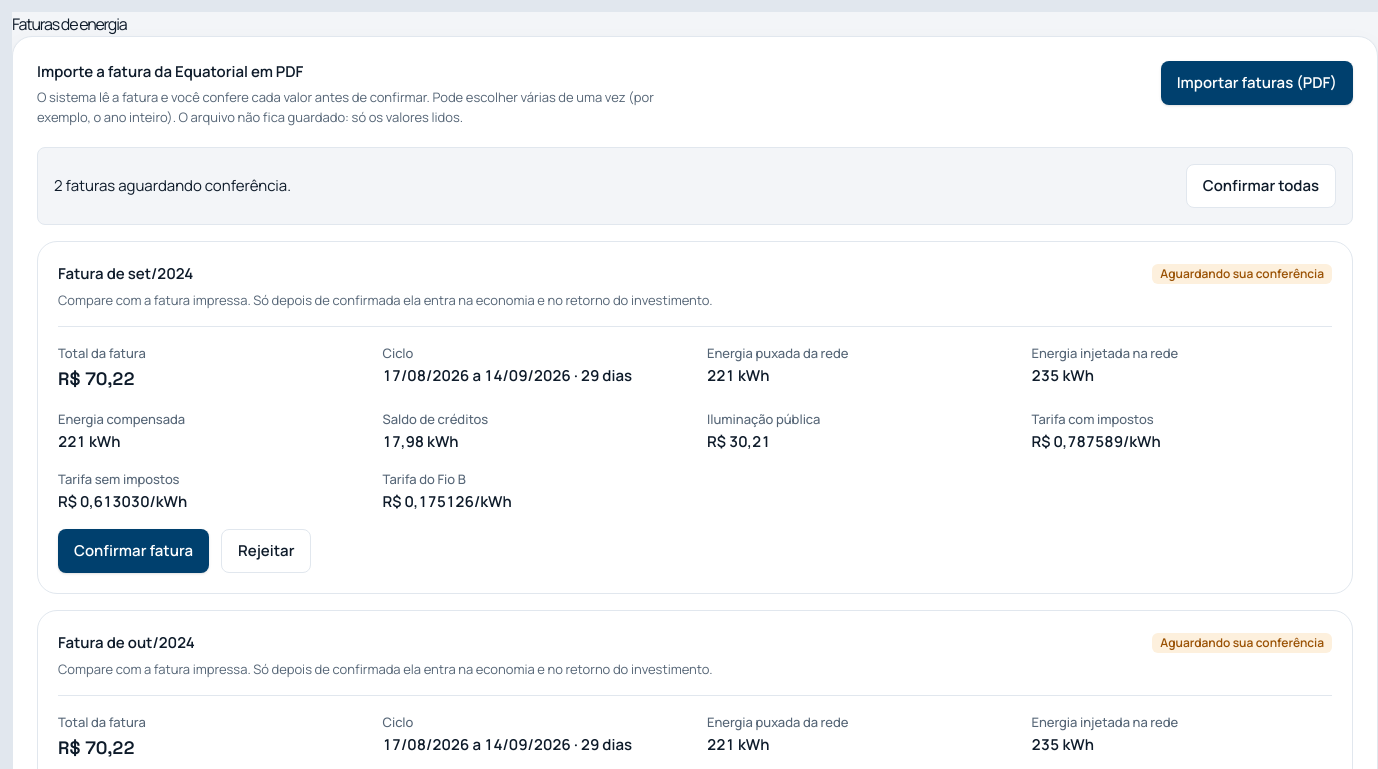
Test case: BillsSection — importar e conferir faturas › confirmar todas separa as já revisadas das que falharam
The image size is (1378, 769).
Step 1. Click the button "Confirmar todas" → (1261, 186), box x1=1186 y1=164 x2=1336 y2=208
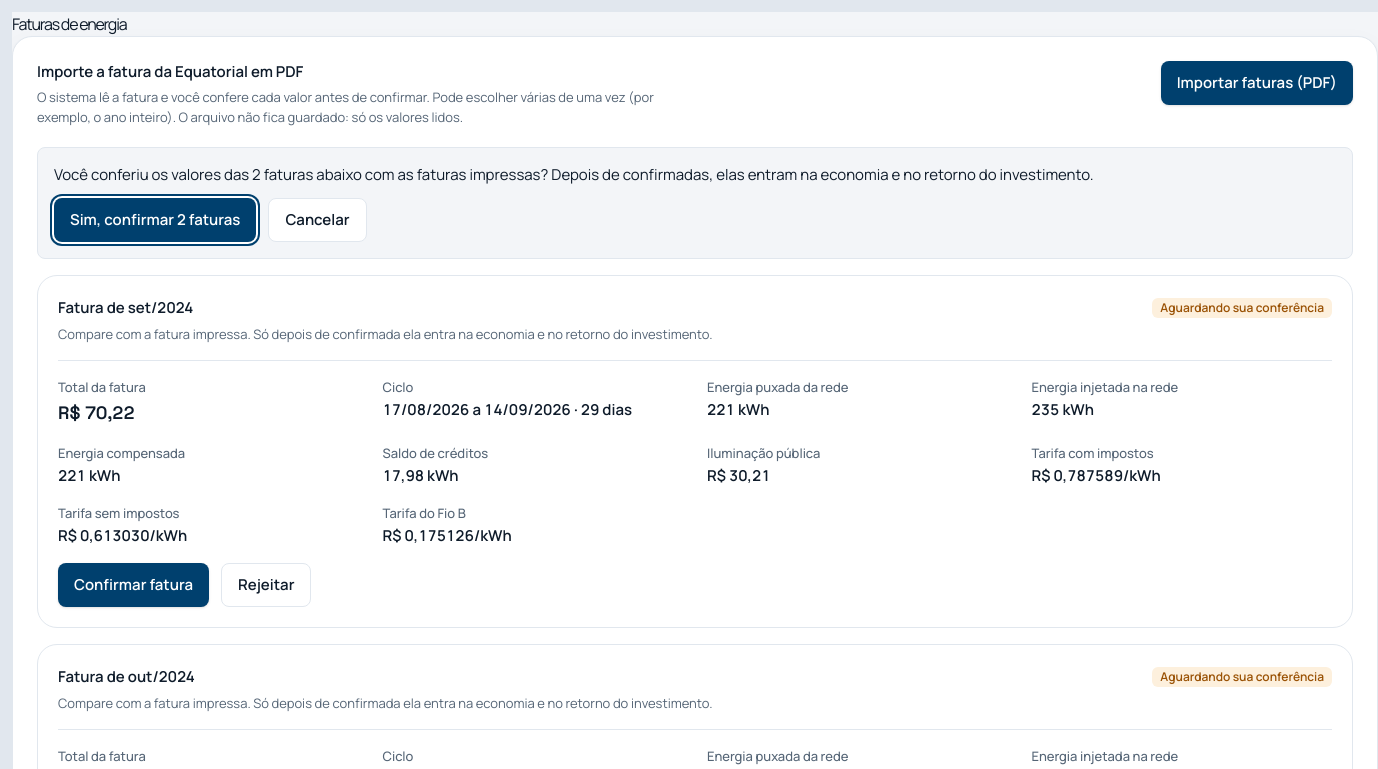
Step 2. Click the button "Sim, confirmar 2 faturas" → (155, 220), box x1=54 y1=198 x2=256 y2=242
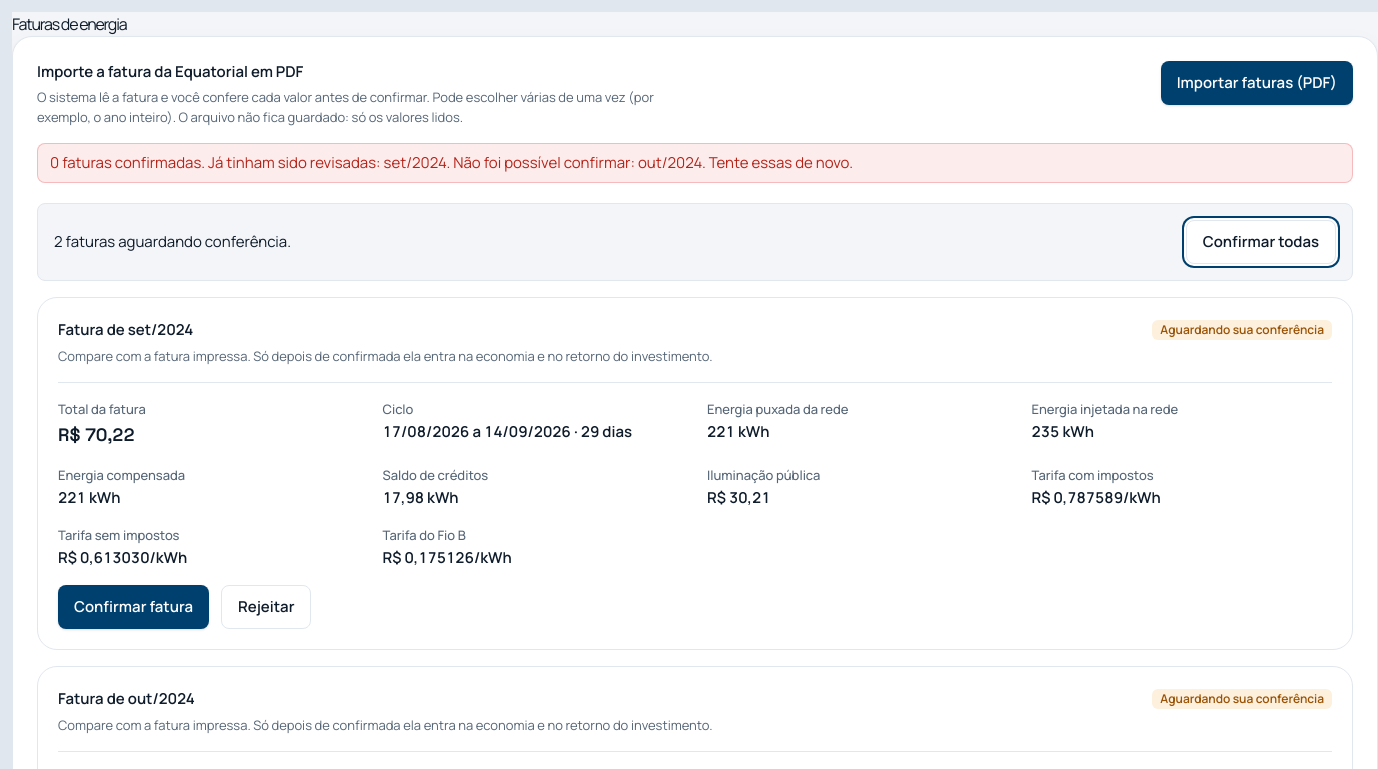
Check: the message shows "0 faturas confirmadas.", box x1=50 y1=152 x2=853 y2=173
Check: the message shows "Já tinham sido revisadas: set/2024.", box x1=50 y1=152 x2=853 y2=173
Check: the message shows "Não foi possível confirmar: out/2024.", box x1=50 y1=152 x2=853 y2=173
